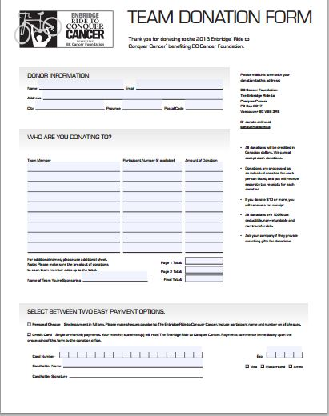textbox: (184, 256, 224, 266), (183, 274, 225, 283), (184, 265, 225, 274)
textline: (58, 347, 204, 359), (42, 94, 224, 102), (61, 360, 202, 370), (25, 222, 121, 234), (69, 371, 204, 379), (26, 182, 122, 193), (25, 234, 122, 244), (26, 193, 122, 203), (26, 204, 121, 214), (26, 164, 120, 174), (25, 245, 122, 254), (26, 174, 122, 183), (26, 214, 120, 223), (135, 82, 225, 91), (38, 82, 125, 91), (121, 222, 183, 234), (122, 203, 183, 214), (121, 213, 182, 224), (82, 273, 148, 283), (122, 182, 182, 193), (122, 192, 182, 203), (122, 234, 184, 244), (121, 244, 183, 254), (122, 173, 182, 183), (265, 346, 306, 360), (34, 103, 105, 111), (183, 182, 225, 194), (183, 213, 226, 224), (183, 243, 226, 254), (123, 165, 182, 173), (183, 203, 225, 214), (184, 223, 226, 234), (121, 102, 163, 112), (184, 234, 226, 244), (183, 193, 224, 203), (184, 102, 224, 112), (184, 164, 222, 174), (183, 174, 224, 183), (183, 346, 194, 361), (94, 347, 106, 360), (193, 346, 202, 362), (283, 348, 294, 361), (86, 347, 97, 360), (147, 347, 158, 360), (292, 349, 303, 361), (58, 349, 70, 360), (139, 348, 150, 360), (157, 347, 167, 360), (166, 347, 176, 360), (175, 346, 184, 360), (130, 349, 141, 360), (102, 348, 114, 358), (275, 349, 286, 359), (68, 348, 78, 359), (78, 347, 87, 359), (121, 350, 132, 359), (266, 349, 276, 358), (112, 350, 122, 359)
